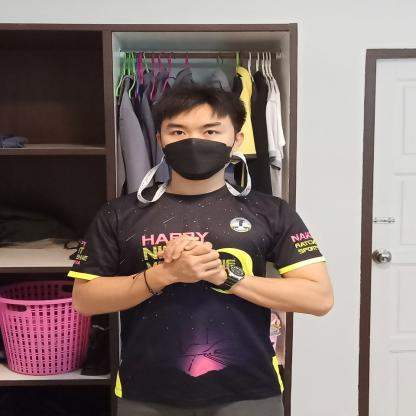Grieve: (123, 209, 249, 306)
